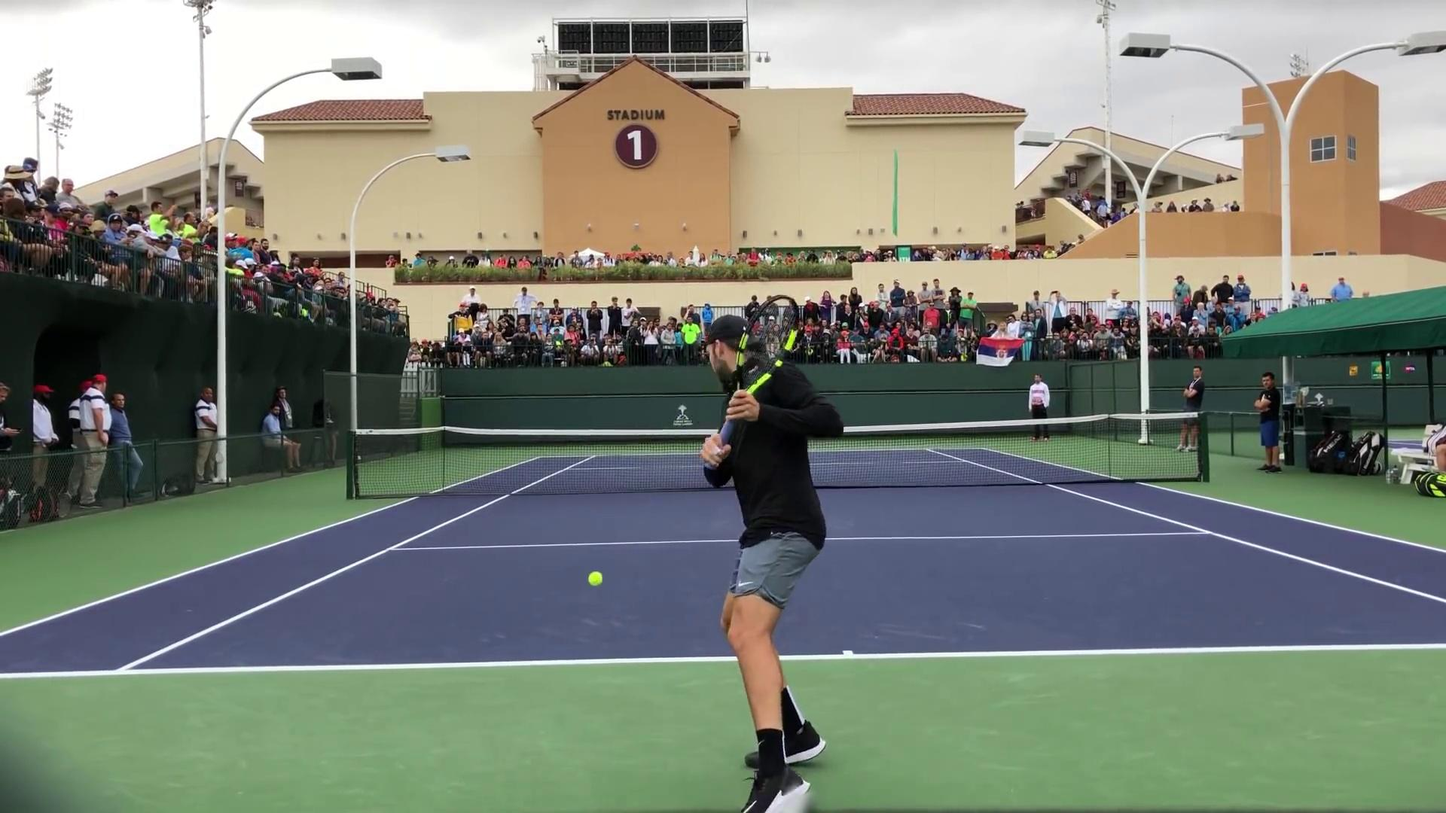ball: (588, 571, 603, 586)
